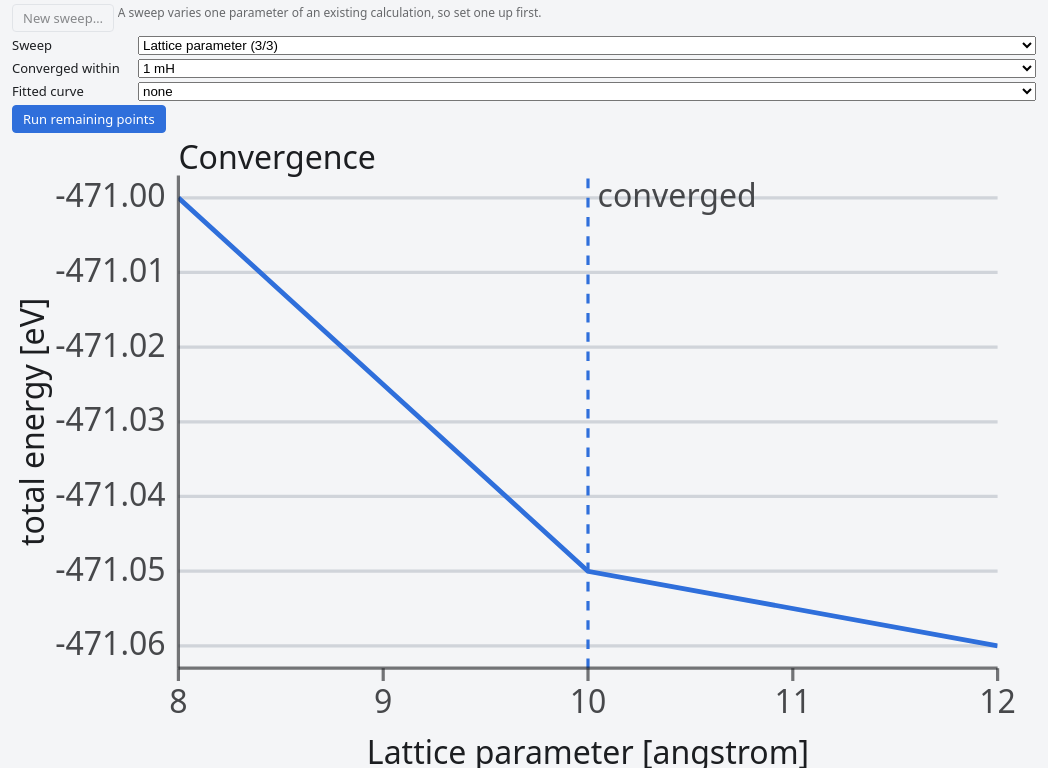
it: the equation of state gets its own chart against volume (Fig. 6.7)
Select "Murnaghan equation of state (Fig. 6.7)" in the dropdown labelled "Fitted curve" at coordinates (587, 91), box [138,82,1036,101]
(page scrolled)
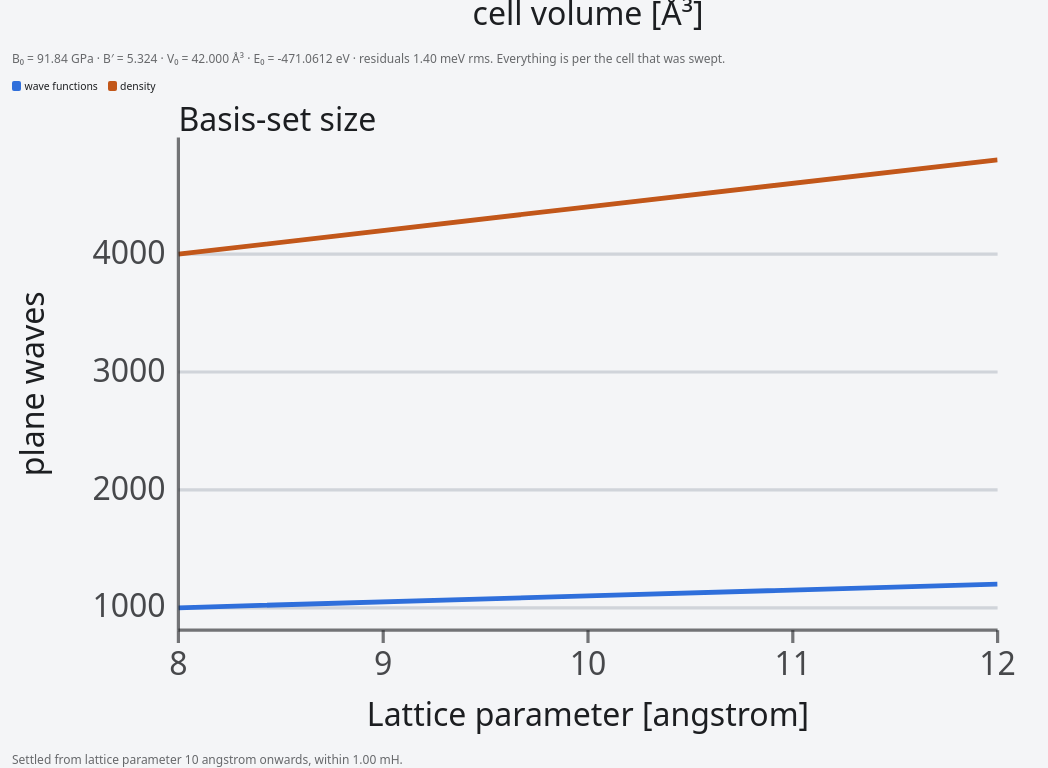
Expected: the message shows "Settled from", [12,751,403,767]
Expected: the text "B₀ = " shows "B₀ = 91.84 GPa", [12,50,725,67]
Expected: the text "B₀ = " shows "B′ = 5.324", [12,50,725,67]
